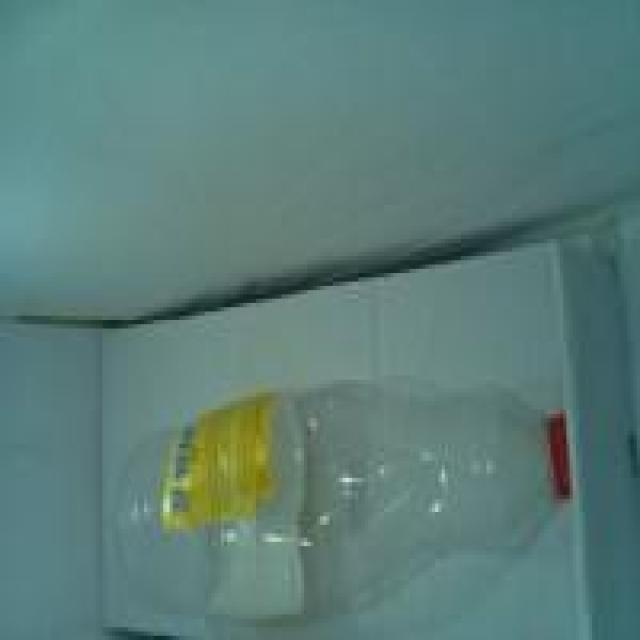bottle: (54, 378, 573, 624)
